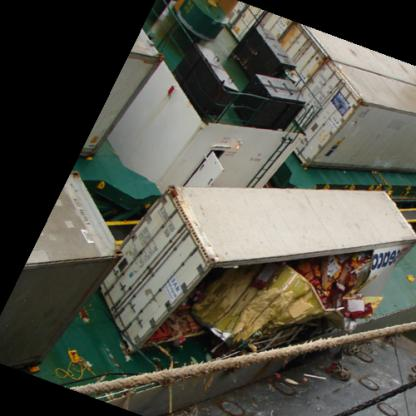Damage: (149, 232, 412, 356)
